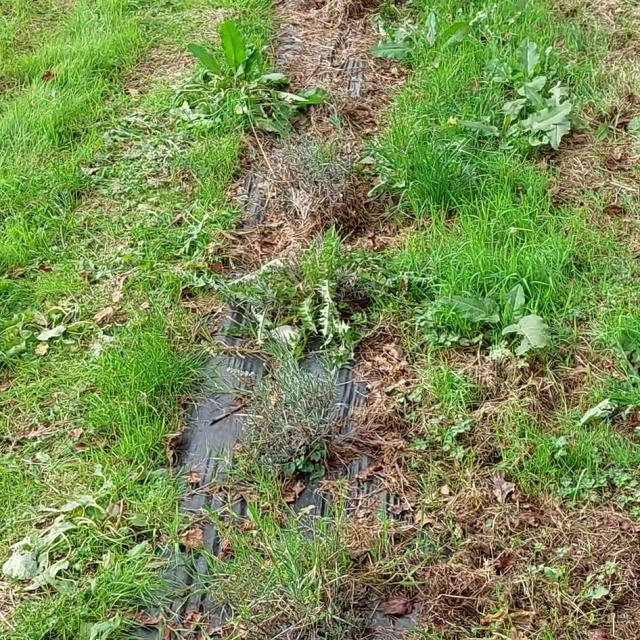organic waste: (169, 10, 307, 140), (7, 498, 126, 582), (433, 274, 547, 359), (501, 72, 605, 165), (360, 9, 480, 82), (13, 283, 109, 356), (441, 86, 531, 154), (476, 38, 558, 107)
